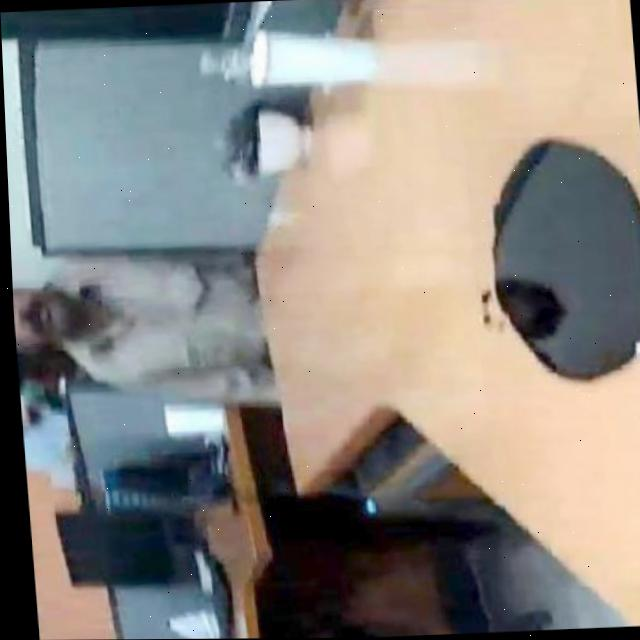spillage: (475, 136, 640, 383)
